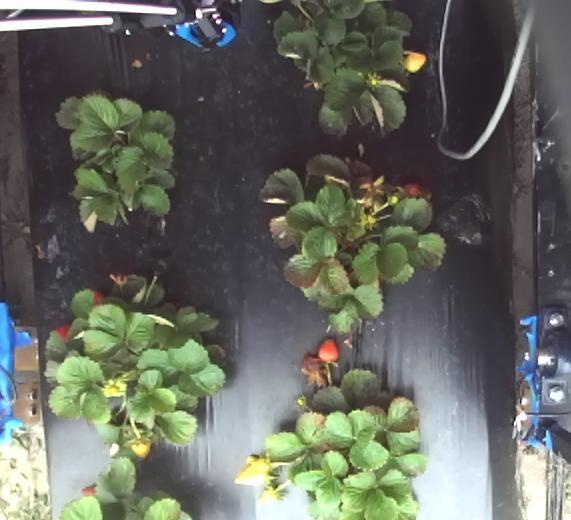mature: (316, 336, 340, 363), (401, 181, 429, 202), (52, 324, 70, 342), (86, 286, 103, 305), (82, 484, 100, 501)
